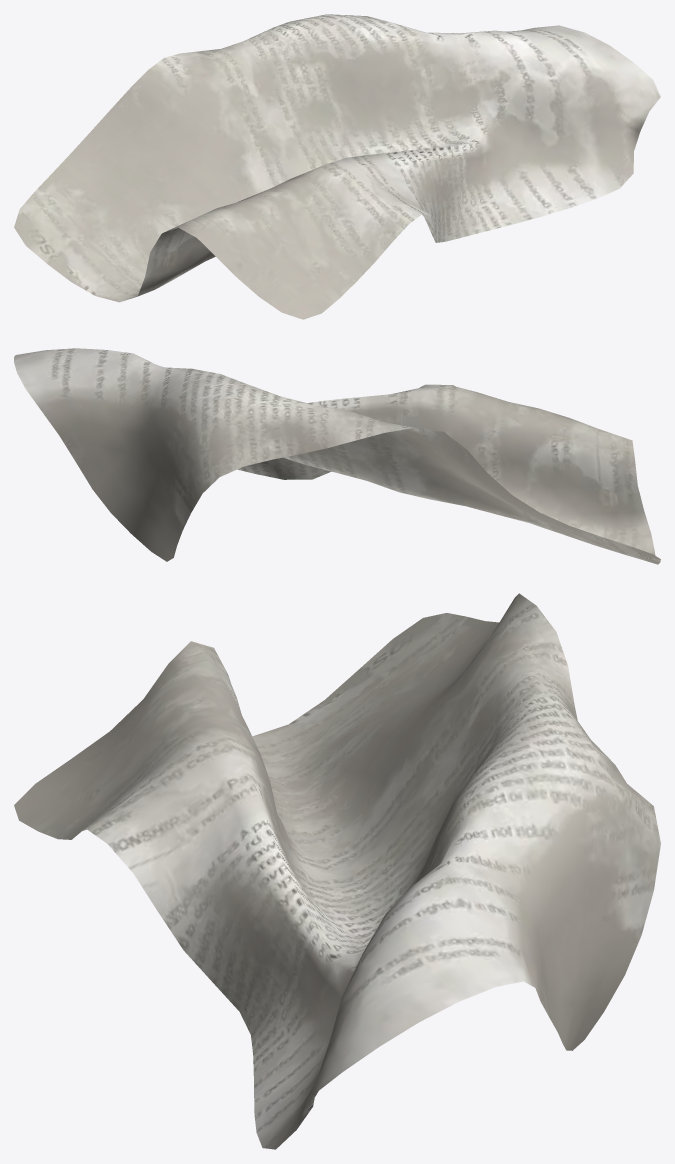
File: paper_debris_b.glb
3 renders of one model, top to bottom at view 1: azimuth 30°, elevation 25°; view 2: azimuth 150°, elevation 25°; view 3: azimuth 270°, elevation 25°, orthographic. The views are drawn at different scales.
Parts seen in each view (by area): view 1: defaultMaterial; view 2: defaultMaterial; view 3: defaultMaterial.
Boxes of the visible parts, bbox=[...] form: defaultMaterial: bbox=[14, 14, 660, 319]; defaultMaterial: bbox=[14, 348, 660, 564]; defaultMaterial: bbox=[14, 593, 660, 1149].
Bounding box in the file's own units: 0.3104 × 0.0802 × 0.1768.
1 material, 1 textured.
